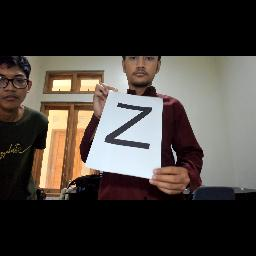z: (103, 100, 155, 150)
